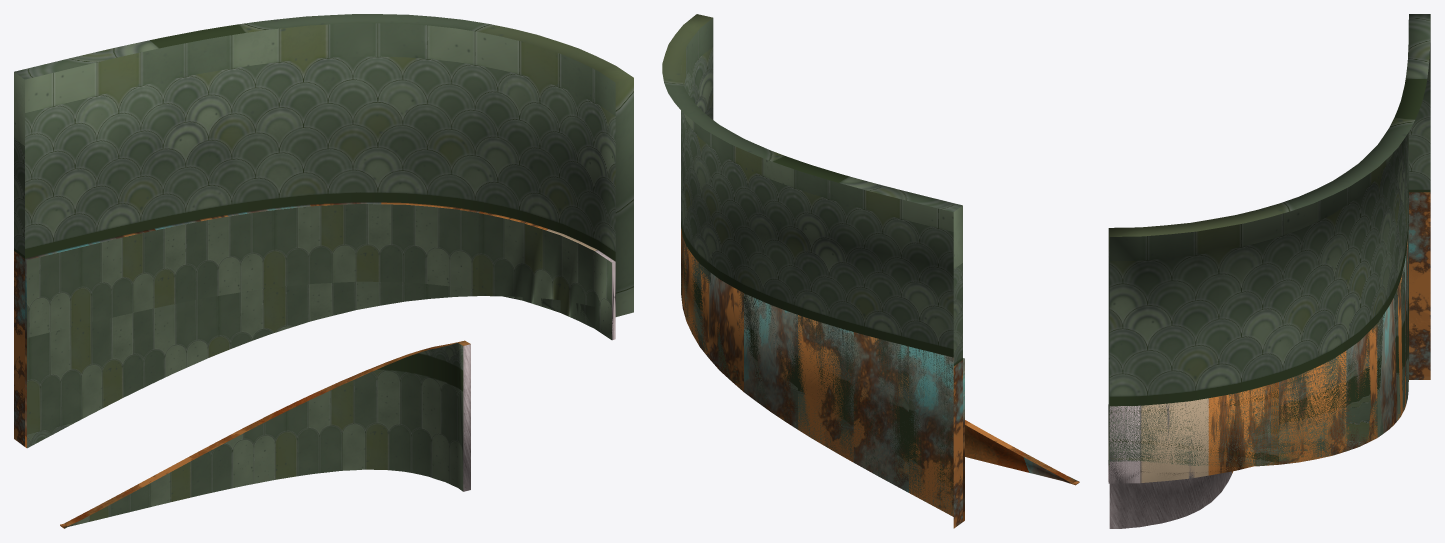
Rendered from CurvedStairsWalls.fbx.
3 views of the same model, side by side, from view 1: azimuth 30°, elevation 25°; view 2: azimuth 150°, elevation 25°; view 3: azimuth 270°, elevation 25° (orthographic). The views are drawn at different scales.
Parts seen in each view (by area): view 1: Cube.009; view 2: Cube.009; view 3: Cube.009.
Part boxes in pixels (x1=…): Cube.009: x1=14, y1=14, x2=633, y2=528; Cube.009: x1=662, y1=14, x2=1079, y2=528; Cube.009: x1=1108, y1=14, x2=1430, y2=528.
Bounding box in the file's own units: 6014 × 4238 × 3323.
